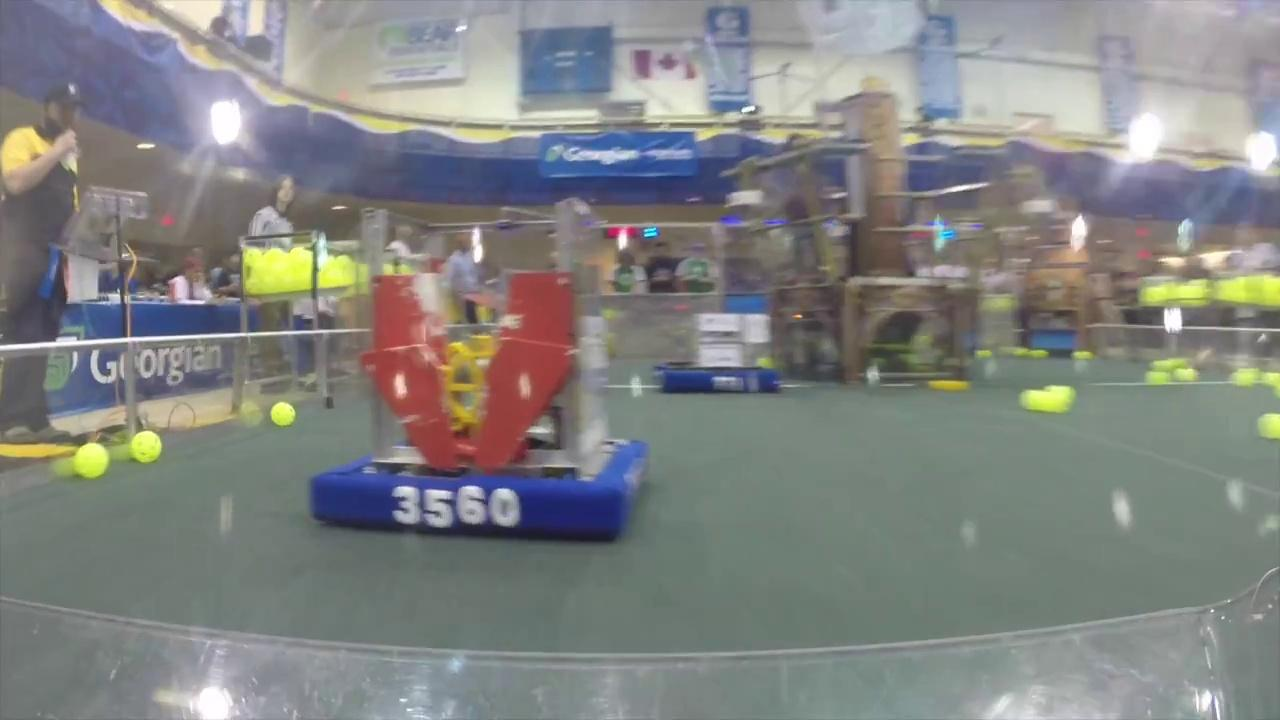robot: (309, 198, 648, 551), (659, 304, 785, 402)
